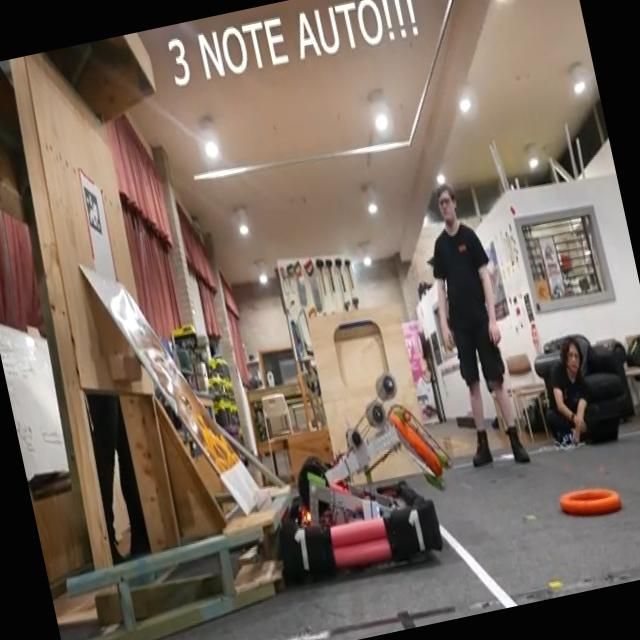note: (552, 472, 629, 528)
